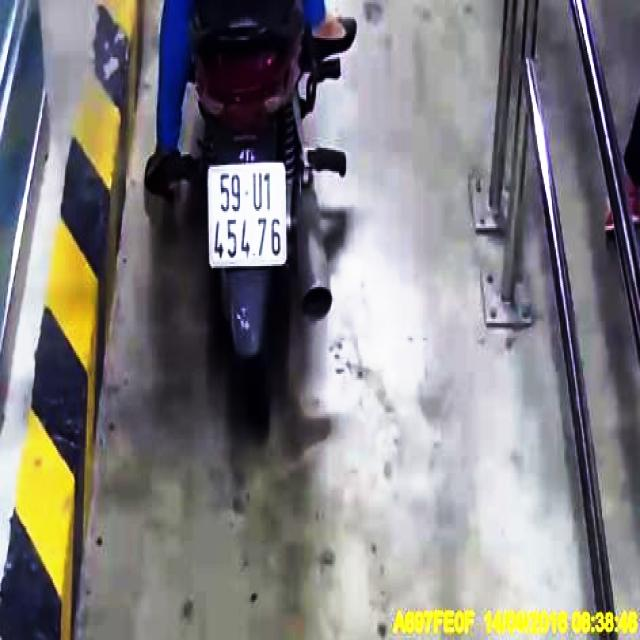license_plate: (211, 164, 286, 266)
